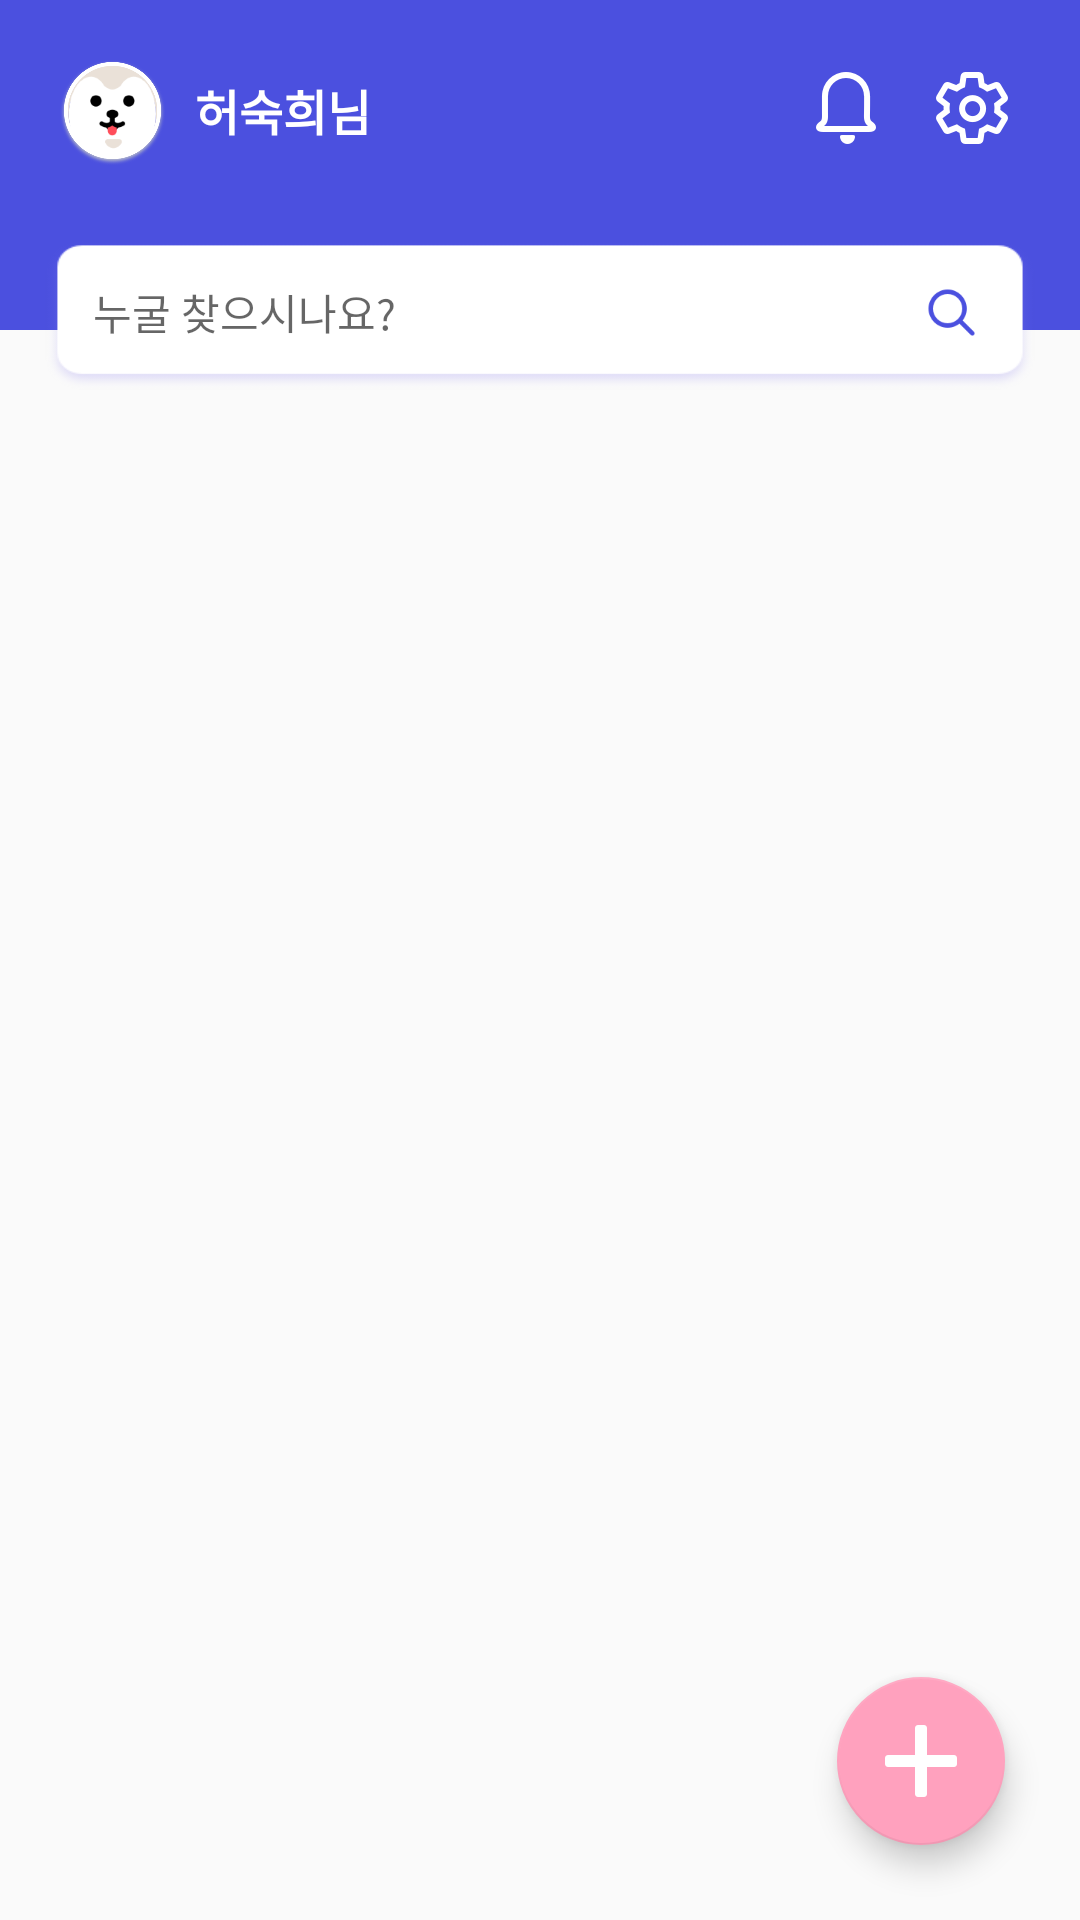

Screen size 1080*1920. Icon name, then its center in pixels as [x,y]:
comm notice: [846,108]
comm search check bl: [951,312]
comm setting: [972,108]
floating: [921,1761]
